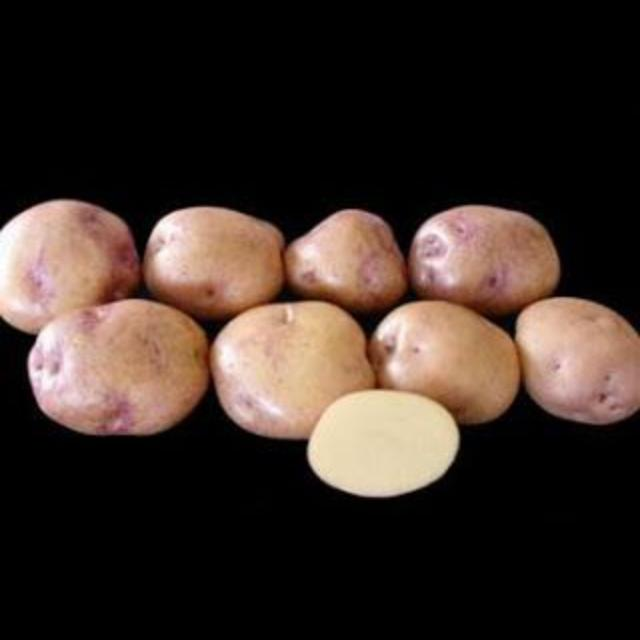Potato: (23, 296, 215, 439), (208, 299, 378, 443), (372, 294, 526, 426), (508, 283, 640, 427), (137, 204, 290, 324), (404, 202, 566, 314), (0, 200, 126, 326), (278, 208, 412, 310)
